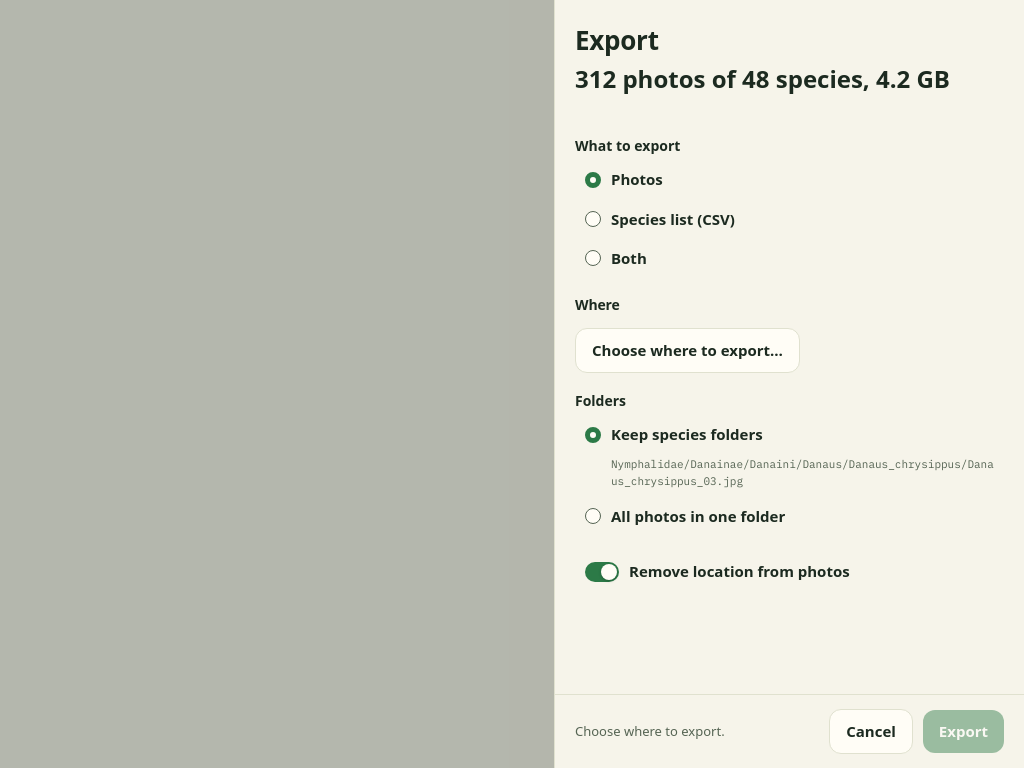
Test: turning Remove location off warns that the photos keep their GPS position
Click the switch labelled "Remove location from photos" at [790, 572], box top-left (575, 553), bottom-right (1004, 590)
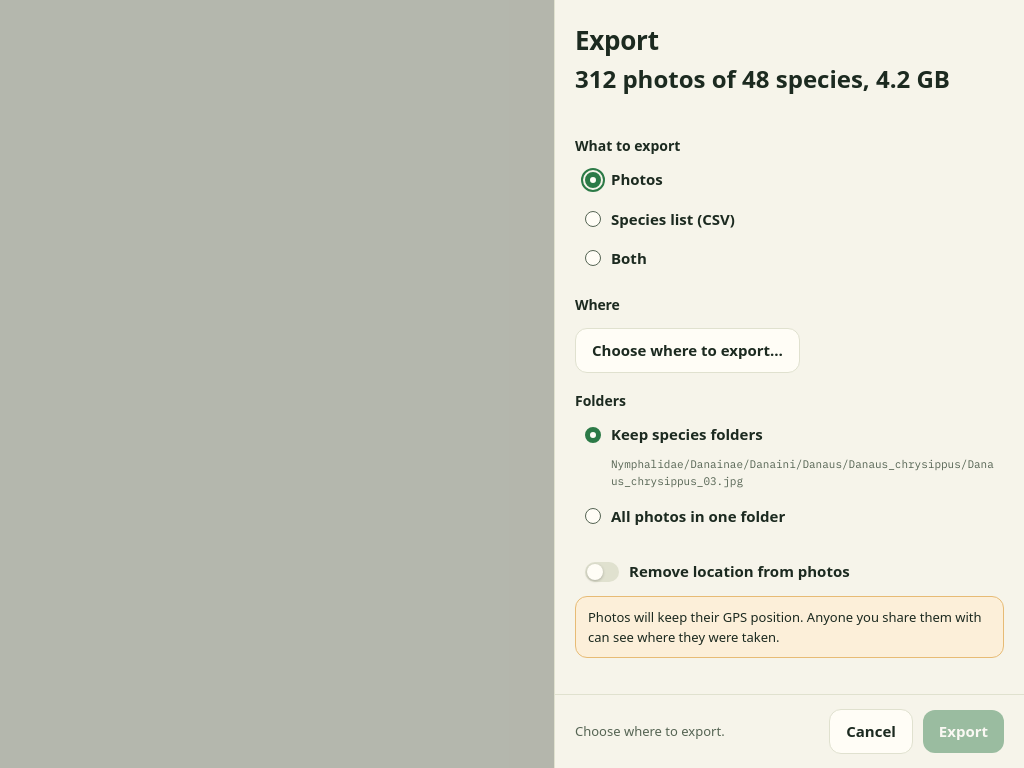
Now the switch labelled "Remove location from photos" is not checked
Click the switch labelled "Remove location from photos" at [790, 572], box top-left (575, 553), bottom-right (1004, 590)
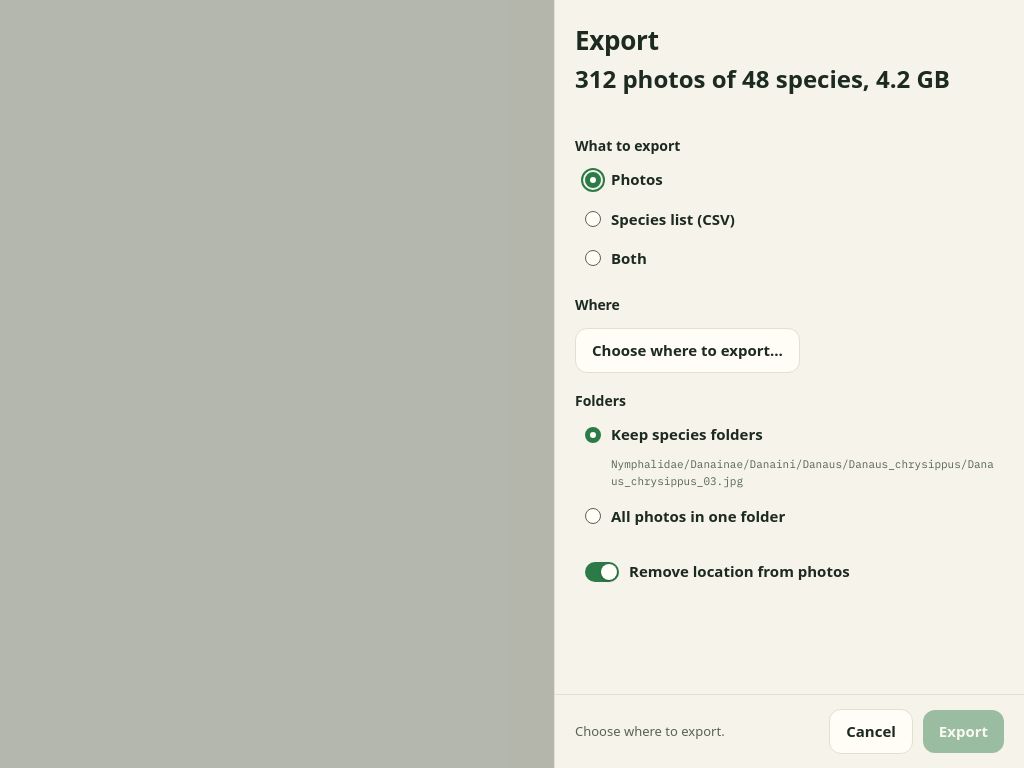
Now the text "Photos will keep their GPS position. Anyone you share them with can see where they were taken." is gone
